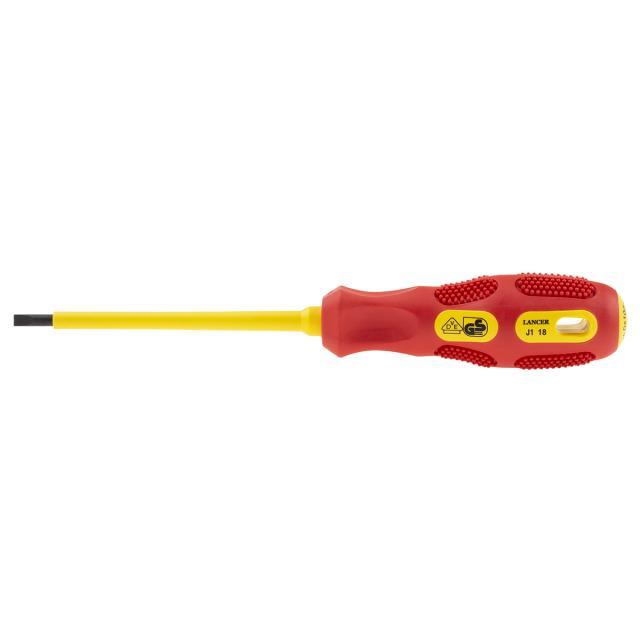screwdriver: (6, 268, 627, 373)
